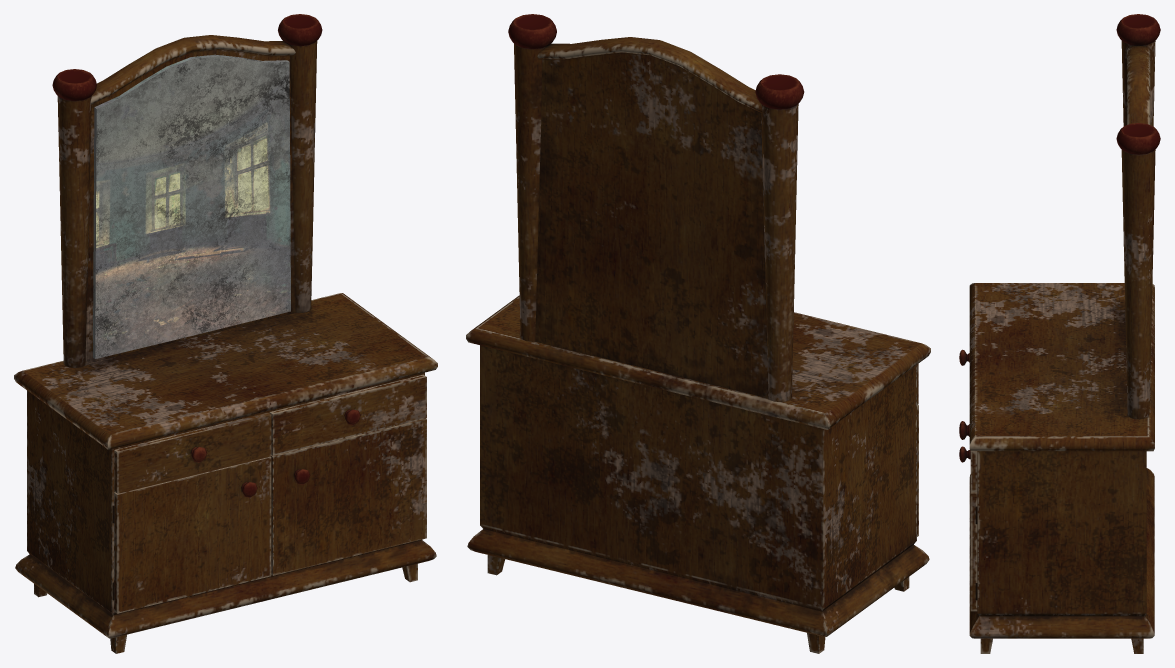
File: ODT.fbx
3 renders of one model, left to right at view 1: azimuth 30°, elevation 25°; view 2: azimuth 150°, elevation 25°; view 3: azimuth 270°, elevation 25°, orthographic. The views are drawn at different scales.
Parts seen in each view (by area): view 1: ODT, Mirror, L_Door, R_Door, L_Box, R_Box; view 2: ODT; view 3: ODT, R_Door, R_Box.
Part boxes in pixels (x1,y1,x2,y2): ODT: [14, 14, 437, 653]; Mirror: [93, 54, 290, 358]; L_Door: [114, 456, 271, 613]; R_Door: [270, 418, 426, 575]; L_Box: [114, 412, 271, 493]; R_Box: [269, 374, 426, 455]; ODT: [466, 14, 930, 653]; ODT: [969, 14, 1160, 653]; R_Door: [959, 446, 977, 611]; R_Box: [959, 424, 977, 492].
Size of the model in its own units: 185 by 278 by 98.64.
2 materials, 2 textured.
